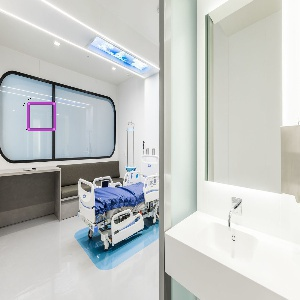square: (24, 99, 58, 132)
